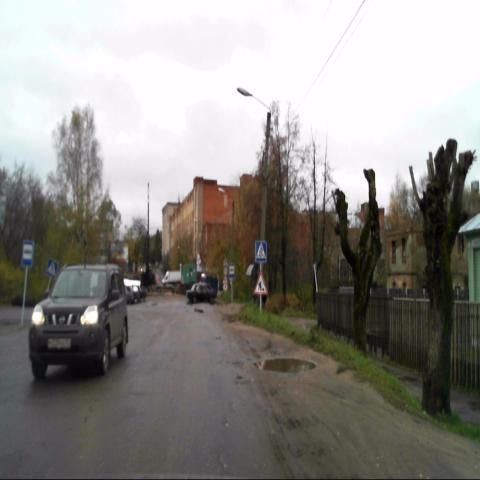1_25: (254, 272, 267, 295)
5_16: (20, 239, 34, 268), (228, 263, 236, 278)
5_19_1: (255, 240, 267, 263), (46, 257, 58, 278)
